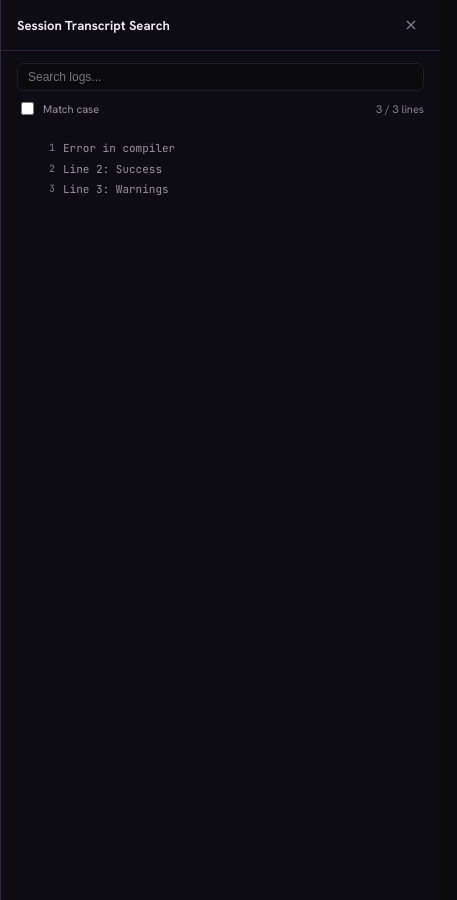
Test: HistorySearchPanel › filters lines based on query search input
The width and height of the screenshot is (457, 900).
Expected: the text "Error in compiler" is shown, [63, 141, 175, 155]
Type "Success" into the field with placeholder "Search logs...". click: (220,77)
box: [17, 63, 424, 91]
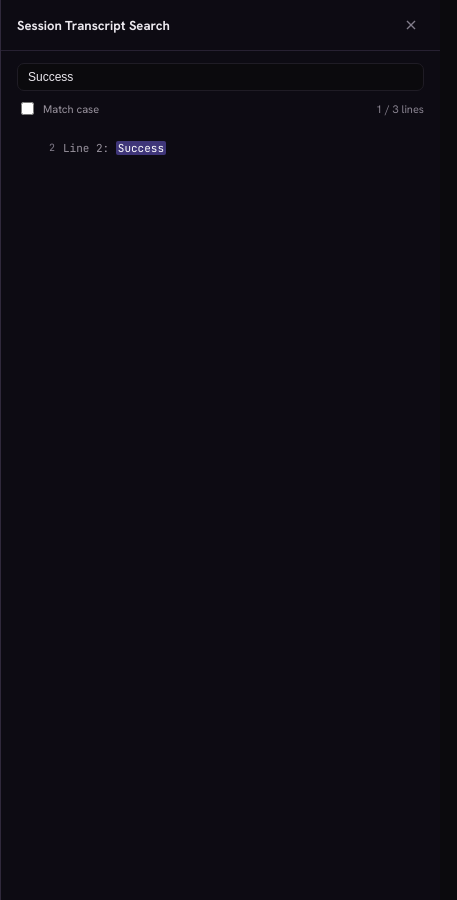
Result: the button "Error in compiler" is gone
Result: the button "Line 3: Warnings" is gone
